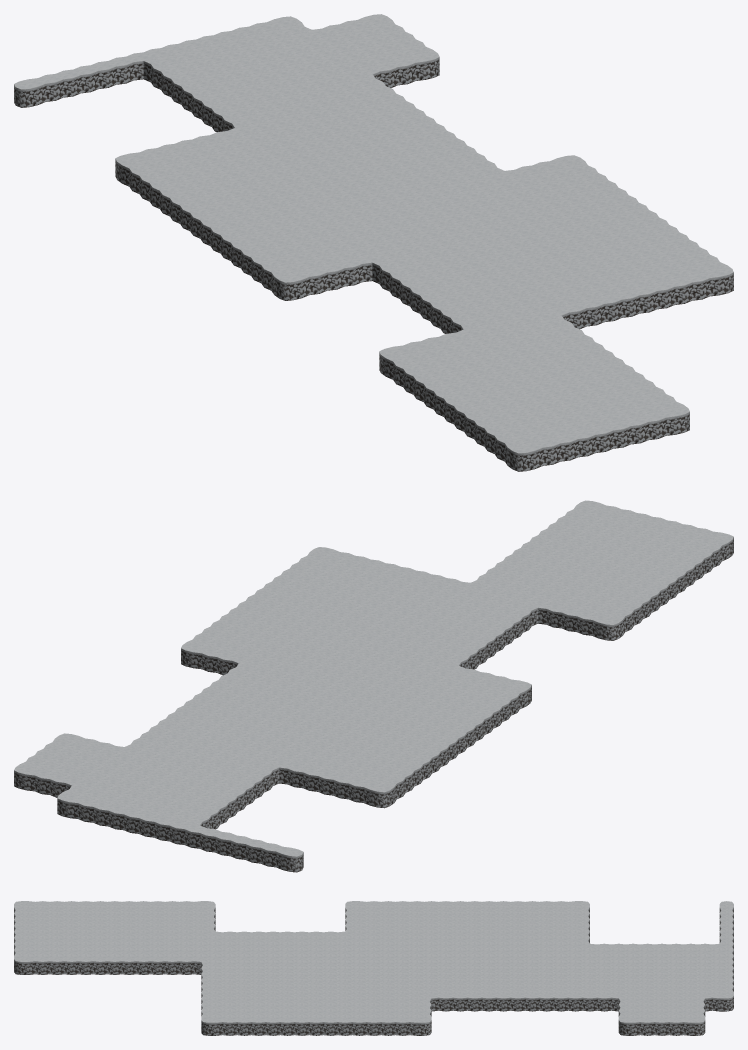
The model's file is StageEndHole.fbx.
3 renders of one model, top to bottom at view 1: azimuth 30°, elevation 25°; view 2: azimuth 150°, elevation 25°; view 3: azimuth 270°, elevation 25°, orthographic. The views are drawn at different scales.
Parts seen in each view (by area): view 1: Terrain; view 2: Terrain; view 3: Terrain.
Boxes of the visible parts, left/top/right/bottom form: Terrain: left=14, top=14, right=733, bottom=471; Terrain: left=14, top=500, right=733, bottom=872; Terrain: left=14, top=901, right=733, bottom=1035.
Bounding box in the file's own units: 90 × 4.5 × 225.
1 material, 1 textured.
